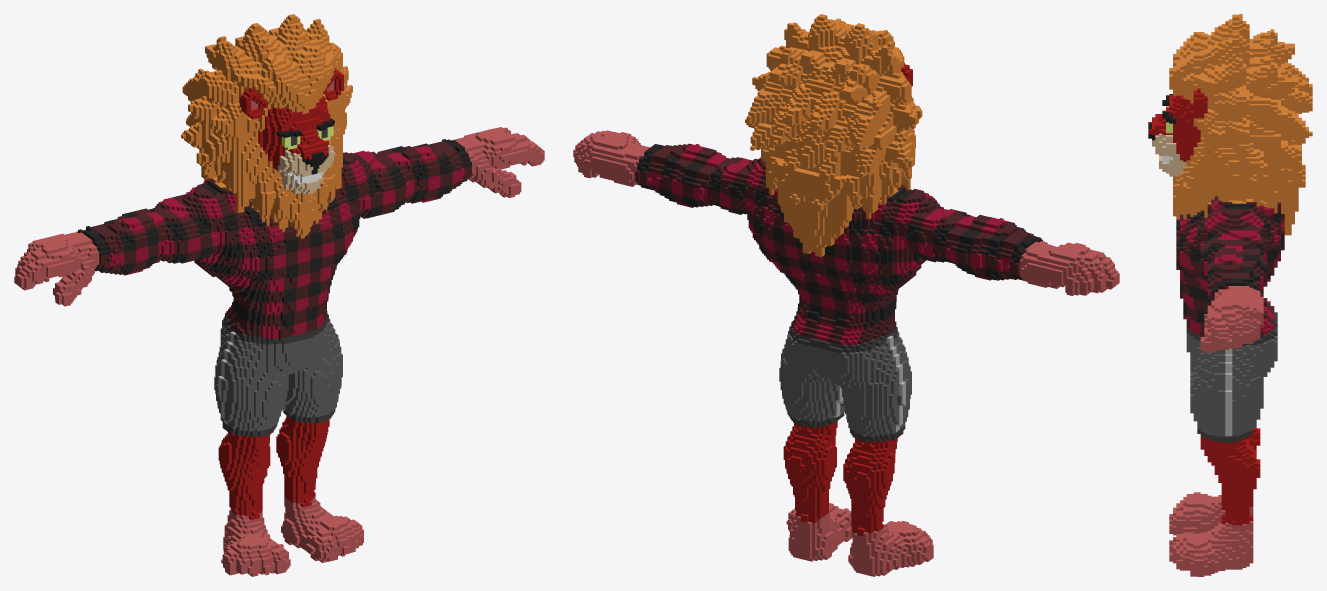
The model's file is 572-DTTHGvvQ.fbx.
3 views of the same model, side by side, from view 1: azimuth 30°, elevation 25°; view 2: azimuth 150°, elevation 25°; view 3: azimuth 270°, elevation 25° (orthographic). The views are drawn at different scales.
Parts seen in each view (by area): view 1: big_smile; view 2: big_smile; view 3: big_smile.
Part boxes in pixels (bbox=[...]): big_smile: bbox=[14, 14, 544, 576]; big_smile: bbox=[573, 14, 1119, 576]; big_smile: bbox=[1148, 14, 1312, 576].
Bounding box in the file's own units: 17.2 × 16.5 × 4.7.
Materials: 5 (5 with a texture image).
